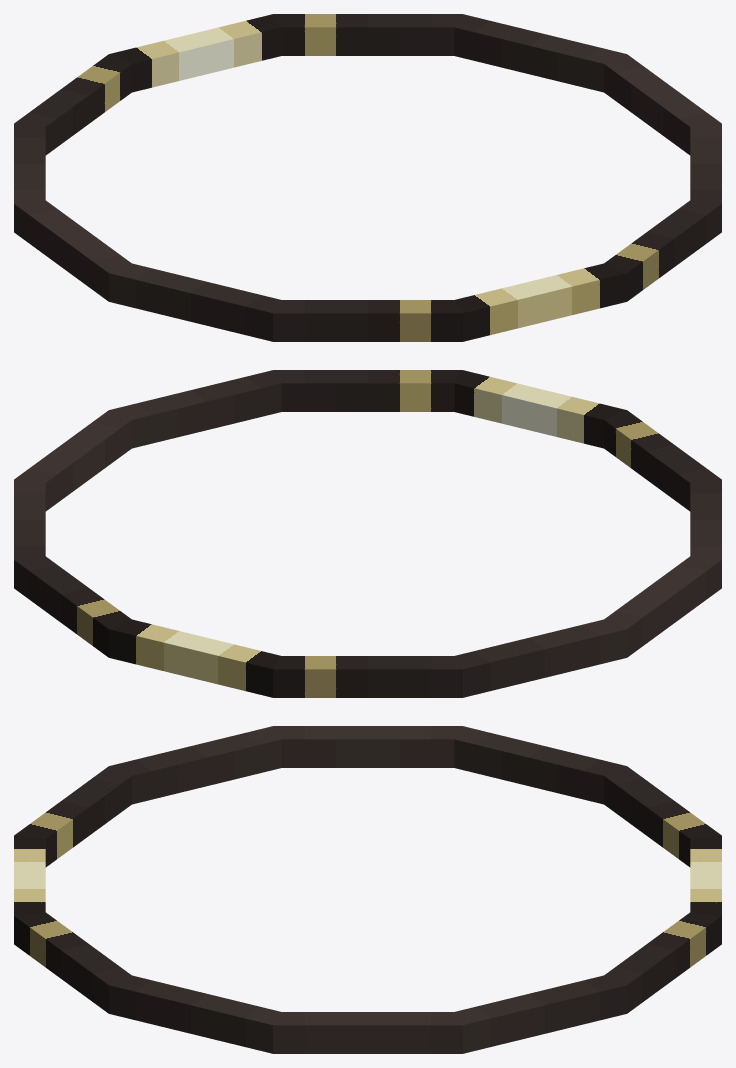
File: eldrin_orrery_ring_large.obj
3 views of the same model, one above another, from view 1: azimuth 30°, elevation 25°; view 2: azimuth 150°, elevation 25°; view 3: azimuth 270°, elevation 25° (orthographic).
Visible parts, largest first — view 1: ELDRIN_ORRERY_RING_STARS_Plane.031; view 2: ELDRIN_ORRERY_RING_STARS_Plane.031; view 3: ELDRIN_ORRERY_RING_STARS_Plane.031.
Part boxes in pixels (box(x1,y1,x2,y2)): ELDRIN_ORRERY_RING_STARS_Plane.031: box(14, 14, 721, 341); ELDRIN_ORRERY_RING_STARS_Plane.031: box(14, 370, 721, 697); ELDRIN_ORRERY_RING_STARS_Plane.031: box(14, 726, 721, 1053).
Size of the model in its own units: 1.4 by 0.0625 by 1.4.
